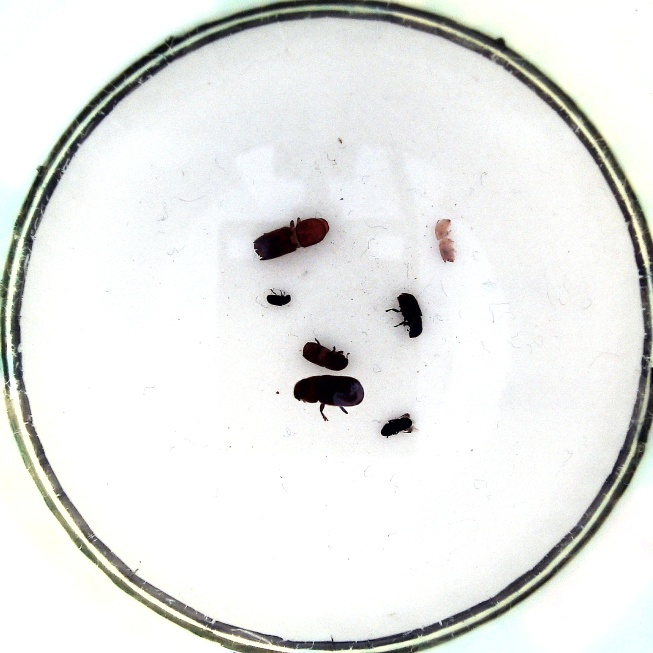acuminatus: (432, 217, 460, 267)
armandi: (384, 290, 426, 340)
boerner: (253, 214, 331, 263)
coleoptera: (378, 410, 419, 438), (264, 285, 293, 307)
leconte: (289, 372, 367, 423)
linnaeus: (299, 335, 353, 372)
